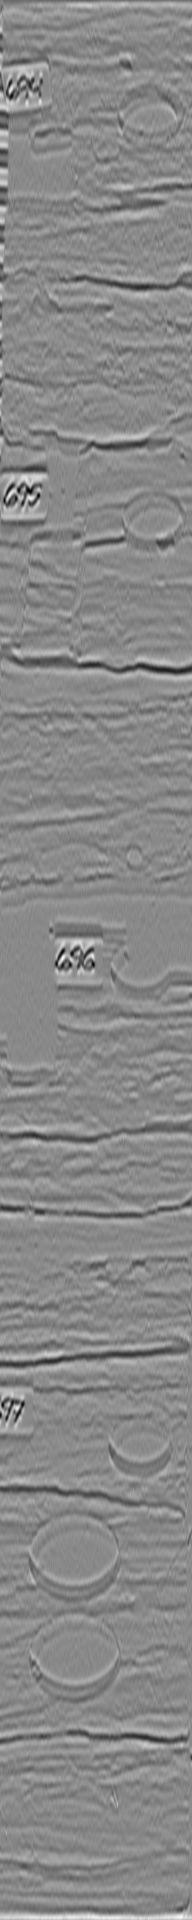hplug: (110, 73, 186, 151), (116, 482, 190, 557), (104, 1406, 175, 1482), (104, 939, 180, 1004)
scal: (24, 1611, 126, 1704), (26, 1510, 124, 1602)
vplug: (12, 431, 95, 661), (1, 876, 67, 1090), (13, 65, 86, 211)
